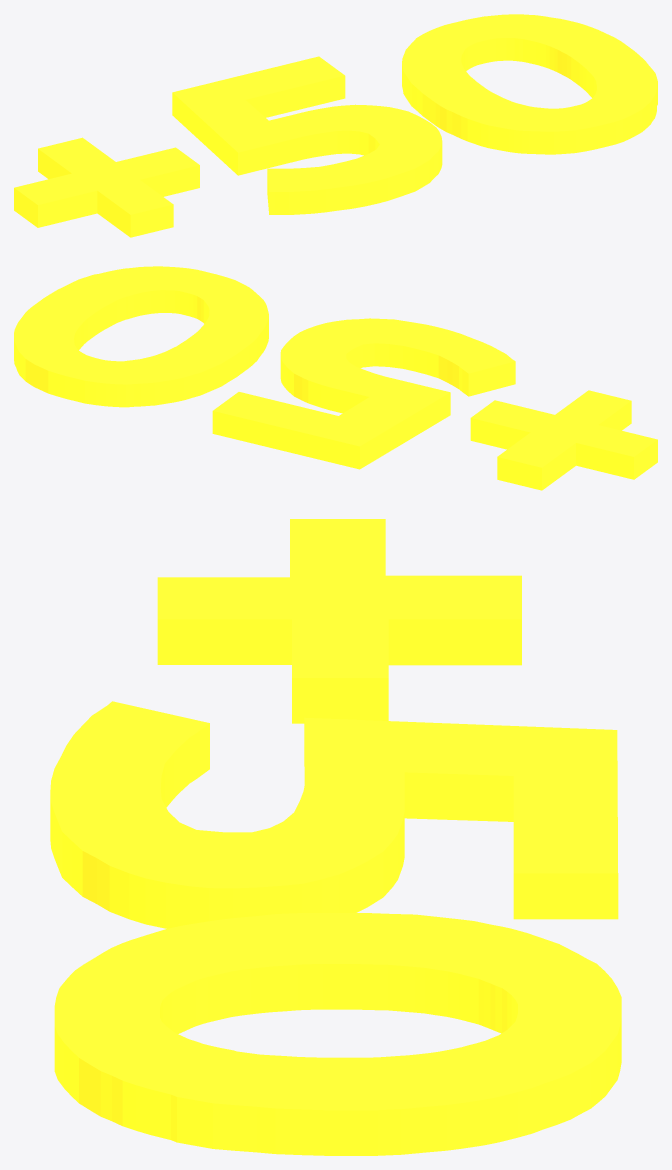
File: plus50.fbx
The picture shows the model from 3 angles, top to bottom: view 1: azimuth 30°, elevation 25°; view 2: azimuth 150°, elevation 25°; view 3: azimuth 270°, elevation 25°; orthographic projection. The views are drawn at different scales.
Parts seen in each view (by area): view 1: Plane, Plane.001, Empty.001; view 2: Plane, Plane.001, Empty.001; view 3: Plane.001, Plane, Empty.001.
Boxes of the visible parts, x1,y1,x2,y2 form: Plane: (172, 56, 442, 214); Plane.001: (402, 14, 657, 154); Empty.001: (14, 137, 199, 237); Plane: (212, 318, 515, 469); Plane.001: (14, 266, 268, 407); Empty.001: (470, 390, 657, 490); Plane.001: (54, 913, 621, 1155); Plane: (50, 701, 618, 928); Empty.001: (157, 519, 521, 723).
Size of the model in its own units: 176 by 431 by 15.65.
